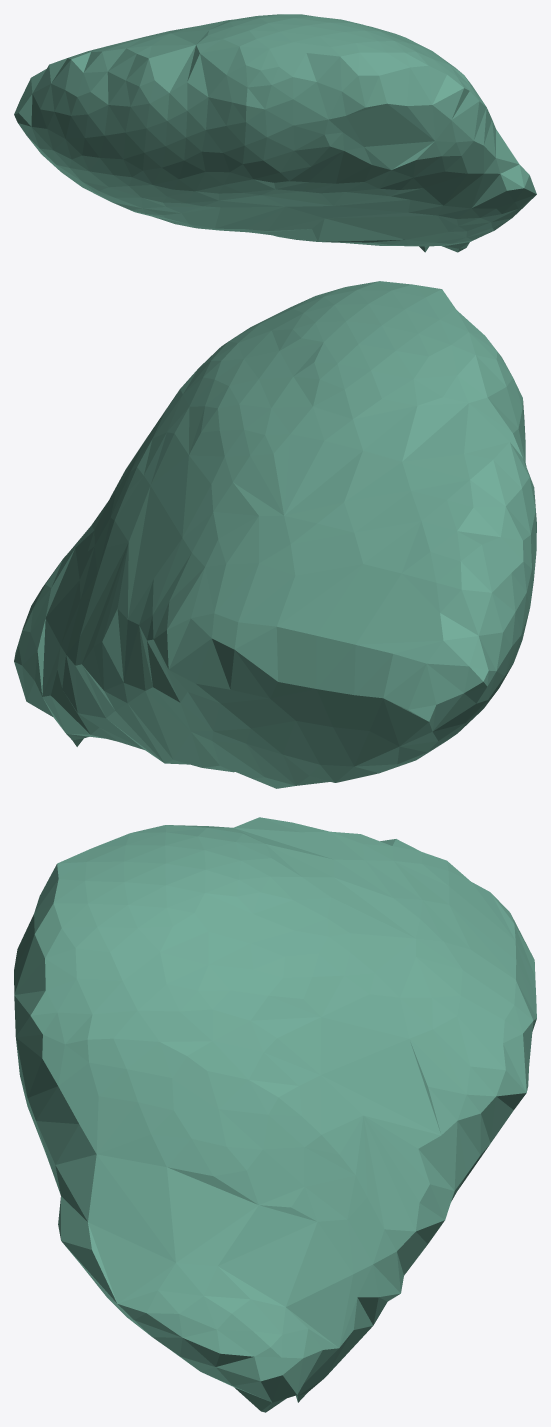
The model's file is Model_235_RH__Subthalamic_nucleus_(STh).obj.
The picture shows the model from 3 angles, top to bottom: view 1: azimuth 30°, elevation 25°; view 2: azimuth 150°, elevation 25°; view 3: azimuth 270°, elevation 25°; orthographic projection. The views are drawn at different scales.
Size of the model in its own units: 1.52 by 1.08 by 1.2.
